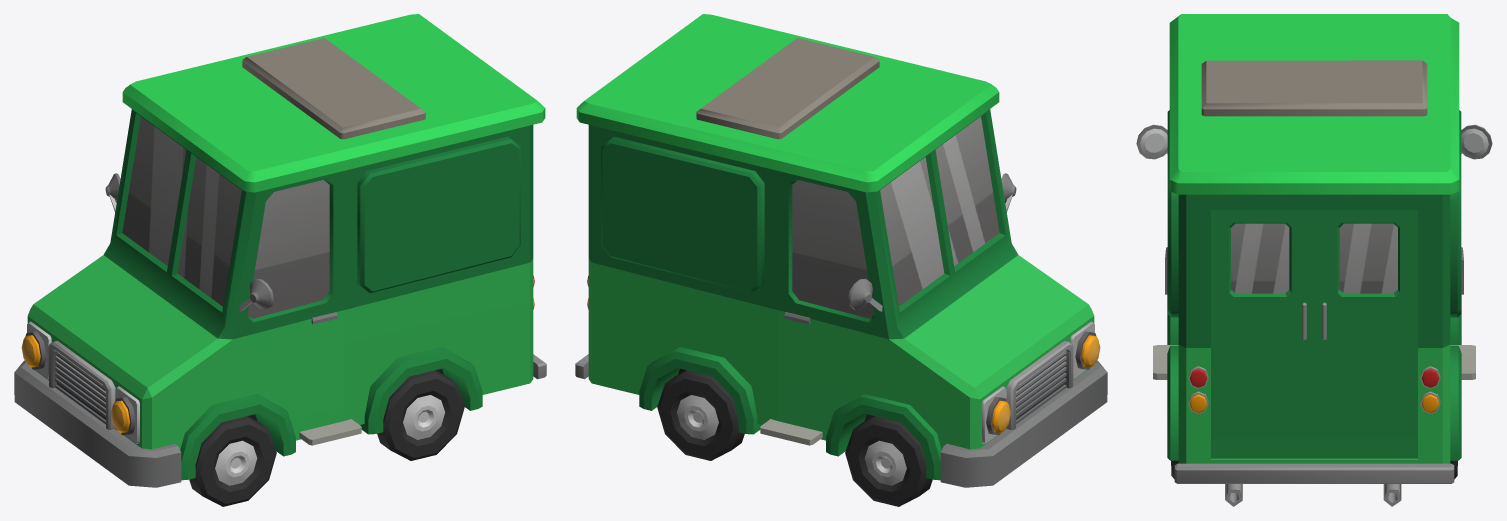
Rendered from Car_14_A.gltf.
3 views of the same model, side by side, from view 1: azimuth 30°, elevation 25°; view 2: azimuth 150°, elevation 25°; view 3: azimuth 270°, elevation 25° (orthographic). The views are drawn at different scales.
Visible parts, largest first — view 1: Car_14_A, RL, FL; view 2: Car_14_A, RR, FR; view 3: Car_14_A.
Boxes of the visible parts, x1,y1,x2,y2 form: Car_14_A: (14, 14, 546, 487); RL: (377, 370, 464, 460); FL: (189, 416, 276, 506); Car_14_A: (575, 14, 1107, 487); RR: (657, 370, 744, 460); FR: (845, 416, 932, 506); Car_14_A: (1136, 14, 1492, 506).
Bounding box in the file's own units: 2.75 × 2.1 × 1.8.
Materials: 4 (4 with a texture image).
